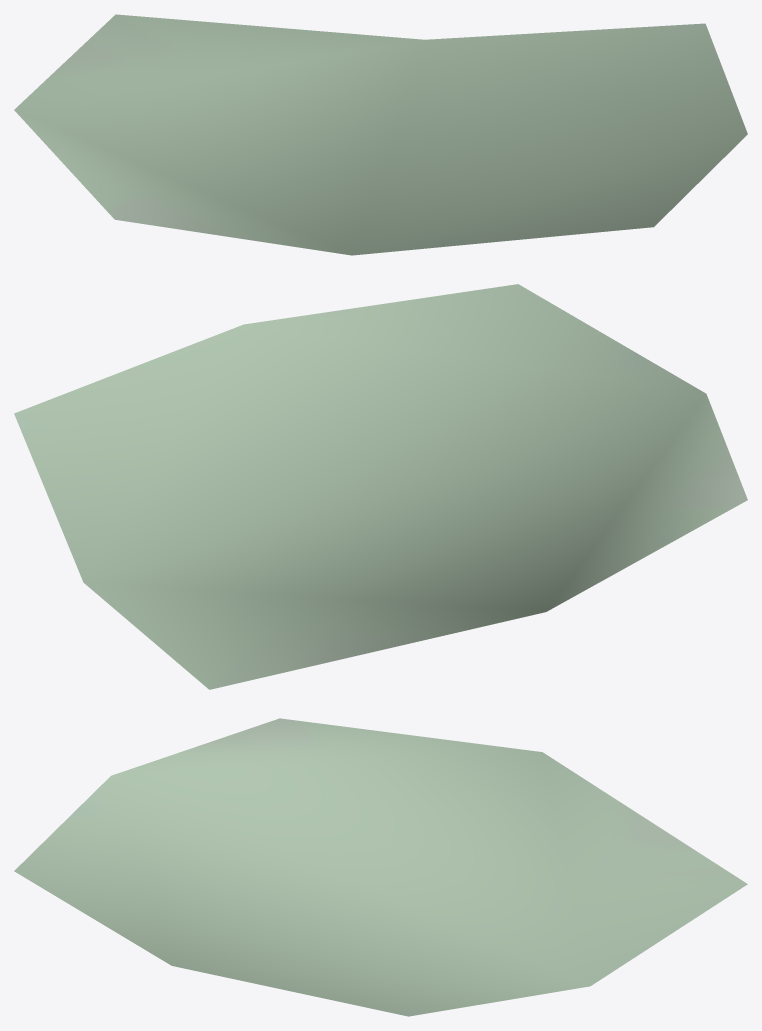
Rendered from TROLLHOLE02_HOLECAP131.fbx.
The picture shows the model from 3 angles, top to bottom: view 1: azimuth 30°, elevation 25°; view 2: azimuth 150°, elevation 25°; view 3: azimuth 270°, elevation 25°; orthographic projection. The views are drawn at different scales.
Parts seen in each view (by area): view 1: TROLLHOLE02_HOLECAP131; view 2: TROLLHOLE02_HOLECAP131; view 3: TROLLHOLE02_HOLECAP131.
Boxes of the visible parts, <box> form: TROLLHOLE02_HOLECAP131: <box>14,14,747,255</box>; TROLLHOLE02_HOLECAP131: <box>14,284,747,689</box>; TROLLHOLE02_HOLECAP131: <box>14,718,747,1016</box>.
Size of the model in its own units: 31130 by 3679 by 34426.
Materials: 1 (1 with a texture image).
